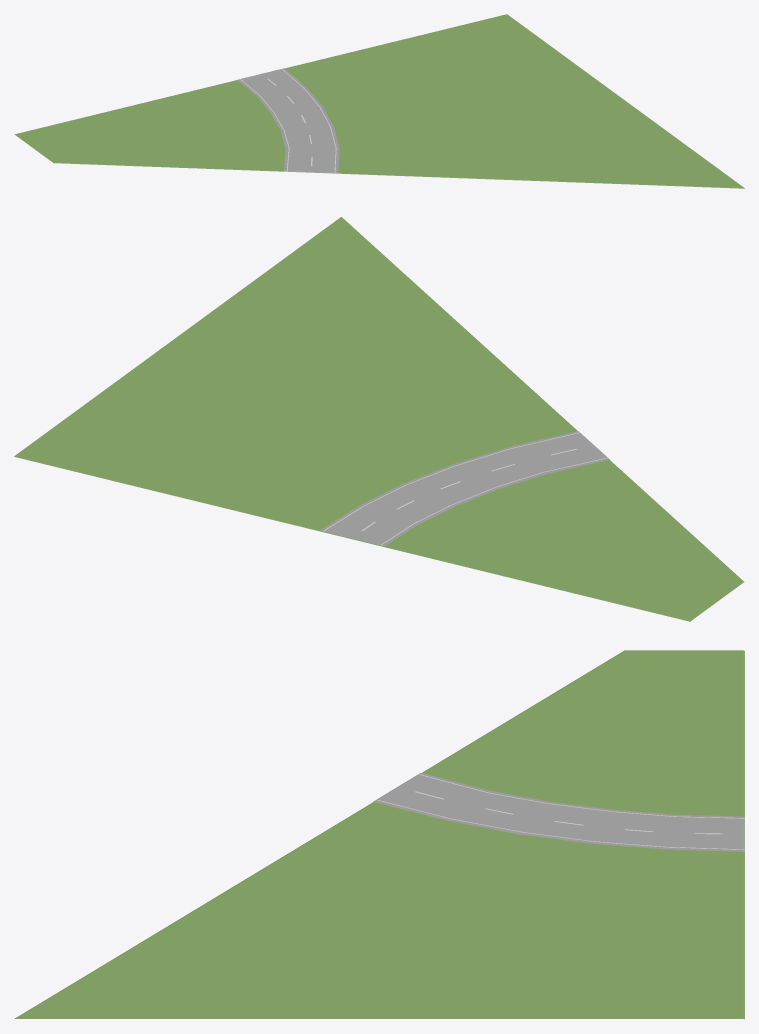
File: road_right_hard.fbx
3 views of the same model, one above another, from view 1: azimuth 30°, elevation 25°; view 2: azimuth 150°, elevation 25°; view 3: azimuth 270°, elevation 25° (orthographic). The views are drawn at different scales.
Parts seen in each view (by area): view 1: grass6, road_right_hard, stuff4; view 2: grass6, road_right_hard, stuff4; view 3: grass6, road_right_hard, stuff4.
Part boxes in pixels (box(x1,y1,x2,y2)): grass6: box(14, 14, 744, 188); road_right_hard: box(237, 68, 339, 173); stuff4: box(240, 68, 336, 172); grass6: box(14, 217, 744, 621); road_right_hard: box(320, 431, 609, 546); stuff4: box(323, 432, 607, 545); grass6: box(14, 650, 744, 1019); road_right_hard: box(373, 773, 744, 851); stuff4: box(376, 774, 744, 849).
Bounding box in the file's own units: 25.02 × 0.042 × 20.95.
